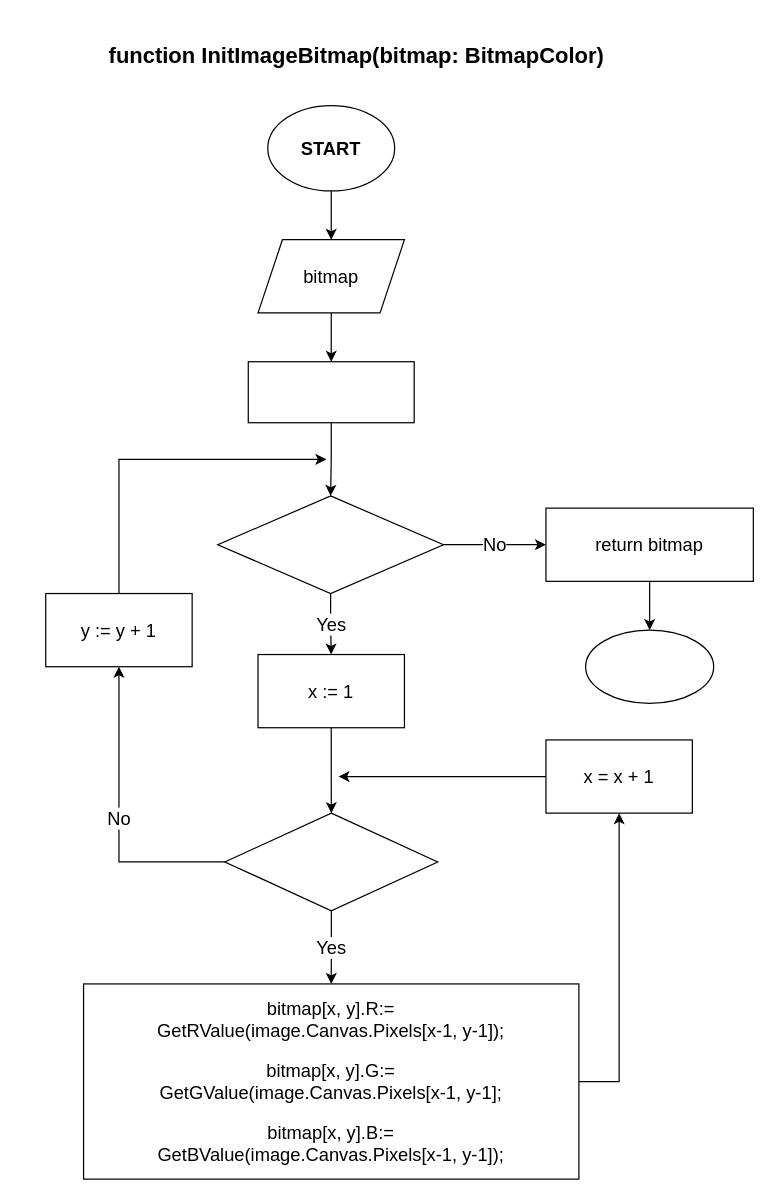
Some shapes in this 775 by 1204 pixel diagram are drawn without their labels. Each missing label, with the centre of its shape:
END: (649,666)
x <= imageWidth: (331,861)
y := 1: (330,392)
y <= imageHeight: (330,544)
